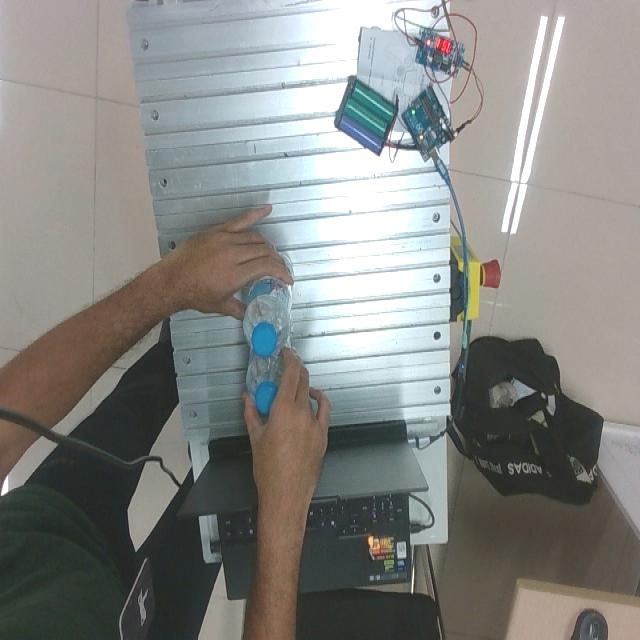lavie: (241, 256, 296, 360), (247, 340, 291, 416)
